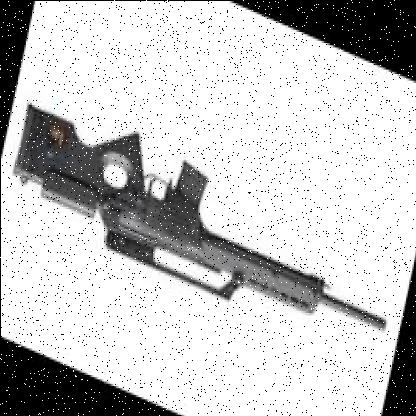rifle: (5, 82, 410, 368)
